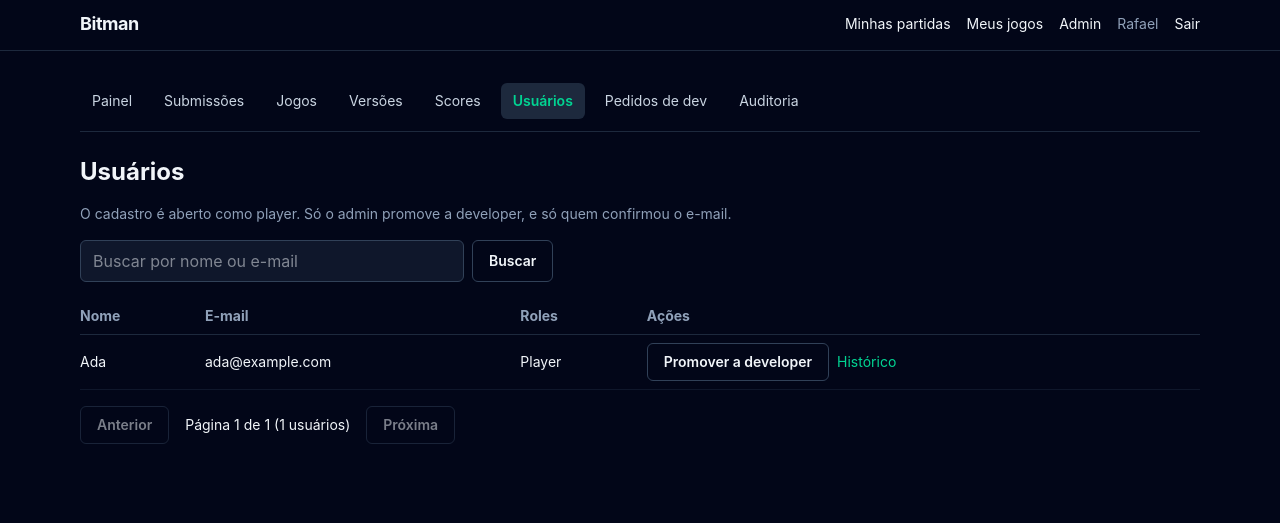
Test case: UsersPage › mostra a regra de negócio recusada pelo servidor
This screenshot has width=1280, height=523.
Step 1. Click the button with aria-label "Promover Ada" → (738, 362), box [647, 343, 829, 381]
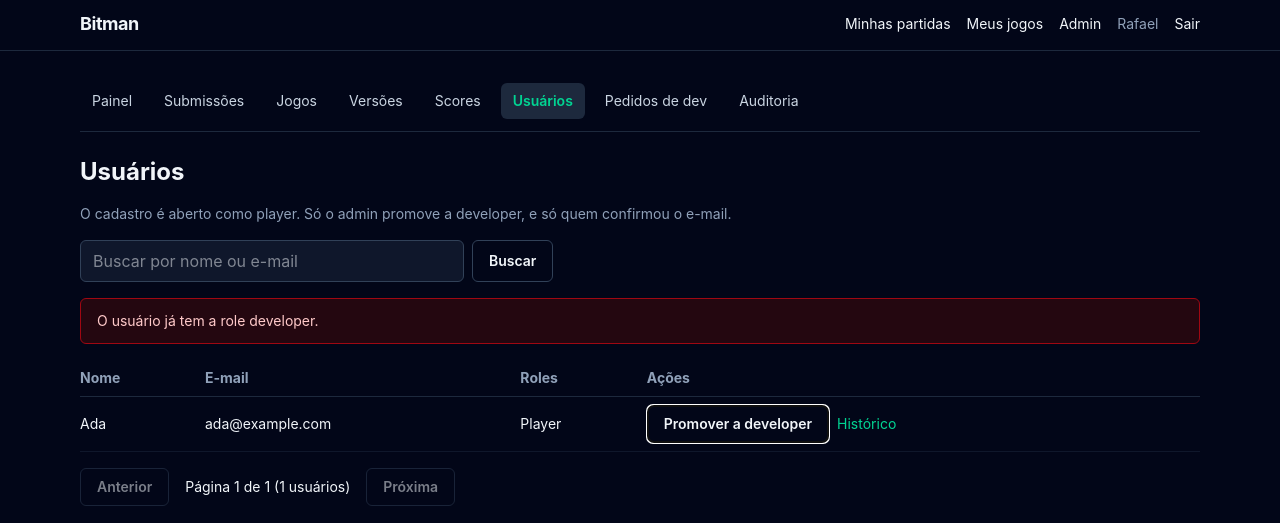
Expected: the message reads "O usuário já tem a role developer.", [97, 312, 318, 329]
